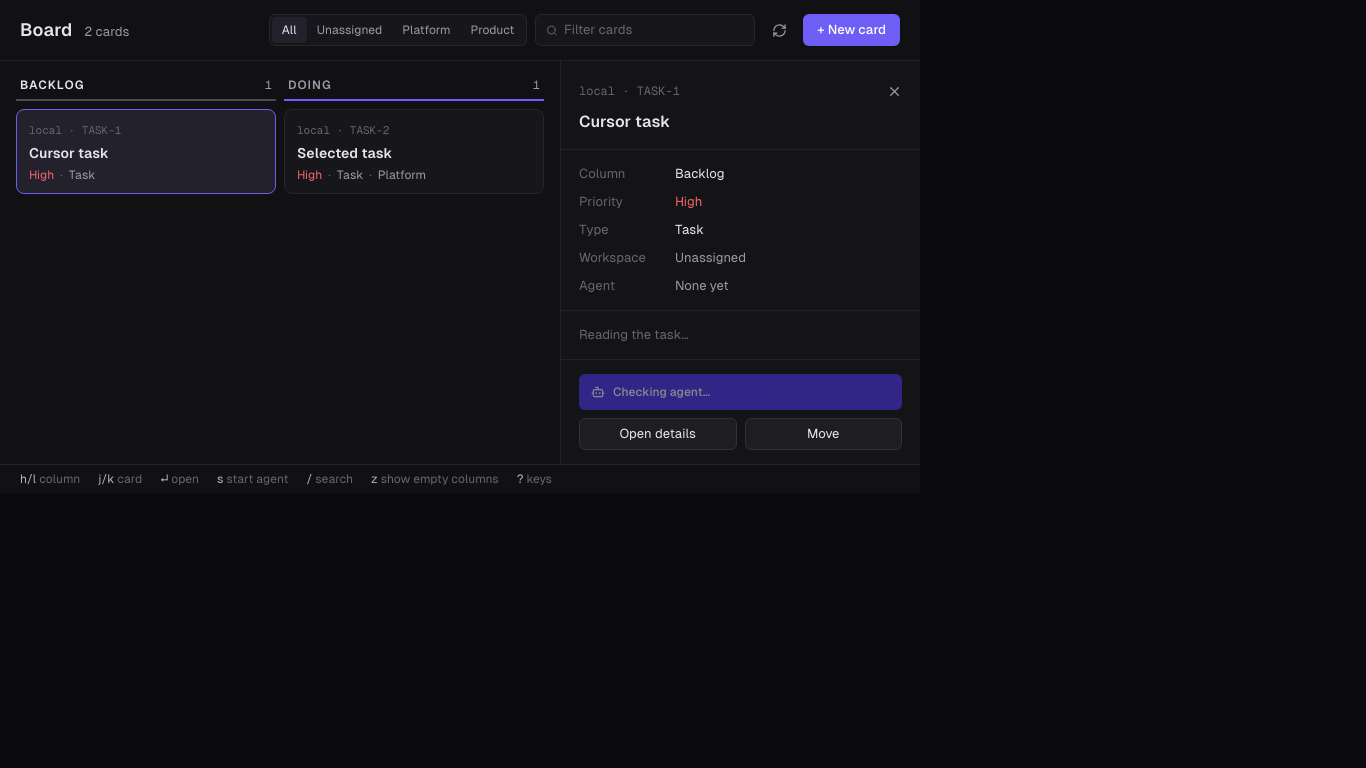
Test: Board workspace movement › moves the context-menu task using its own current state and only workspace_id
This screenshot has width=1366, height=768.
Step 1. Right-click the text "Selected task" → (414, 152), box 284,109 -> 544,194
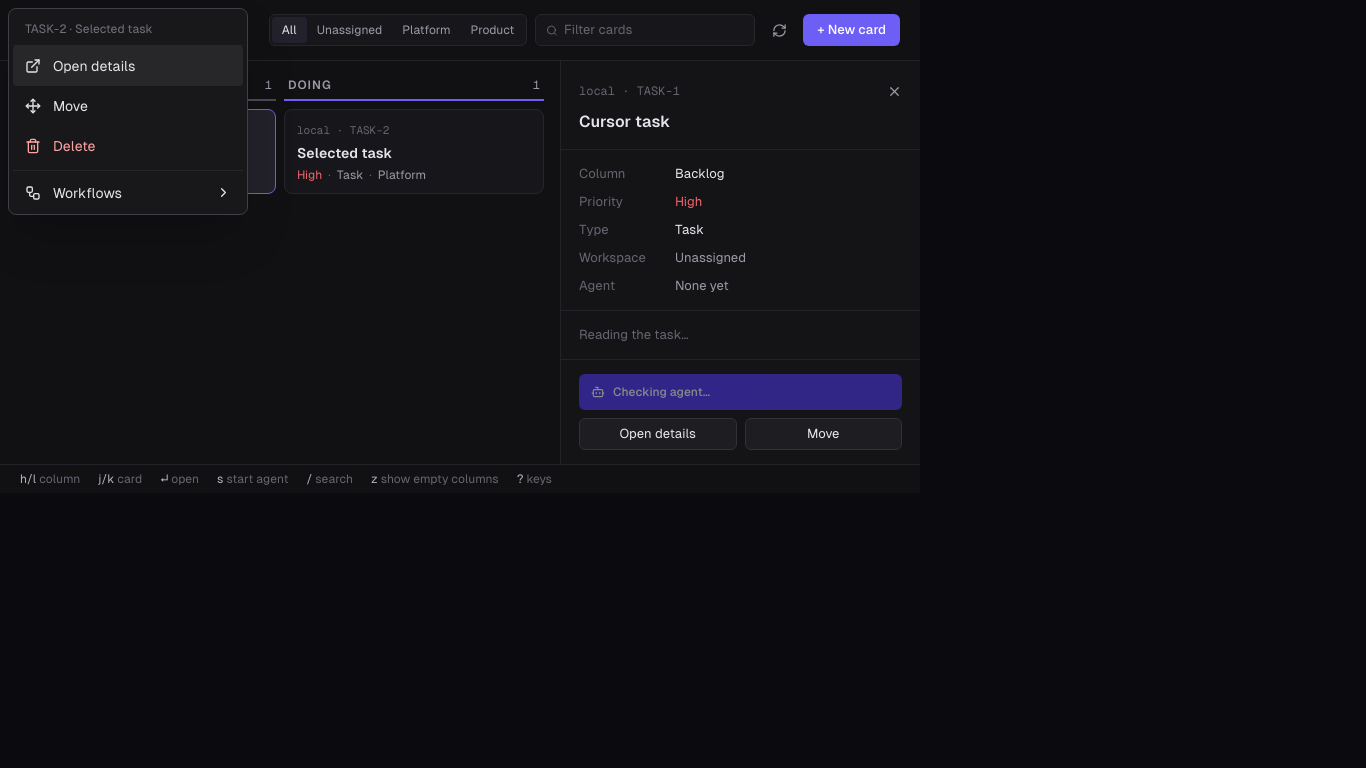
Step 2. Click the menu item "Move" → (128, 106), box 13,86 -> 243,126
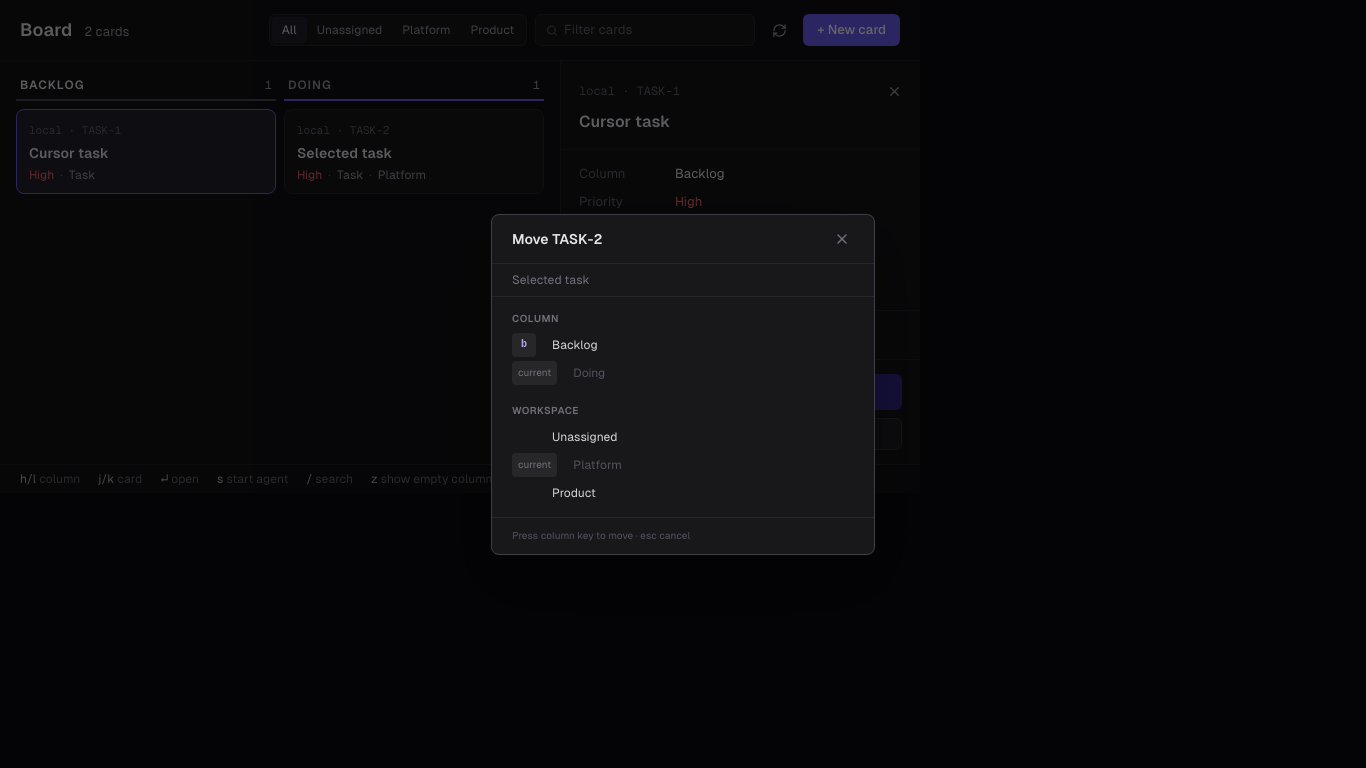
Now the button "Doing" is disabled, box 565,360 -> 854,384
Now the button "Platform" is disabled, box 565,452 -> 854,476
Step 3. Click the button "Product" → (574, 492), box 544,480 -> 854,504
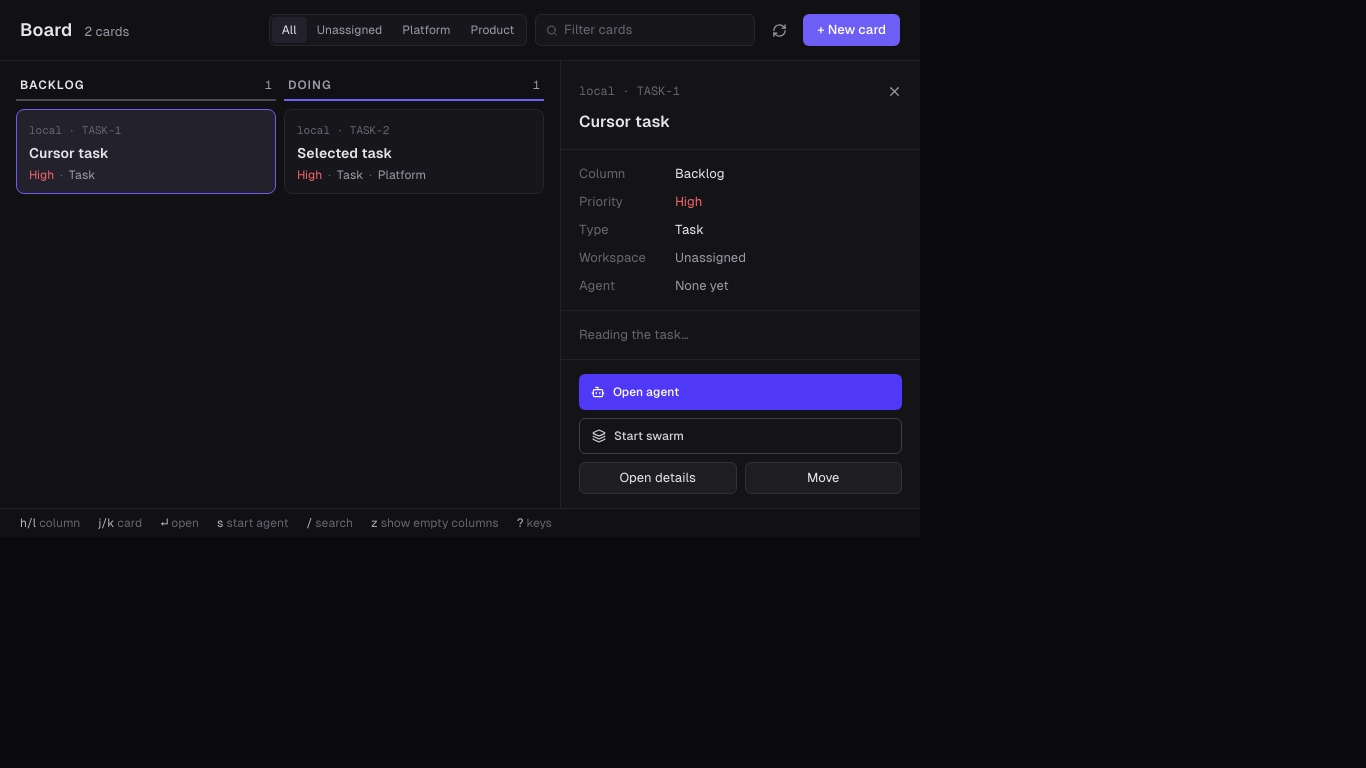
Now the heading "Move TASK-2" is gone
